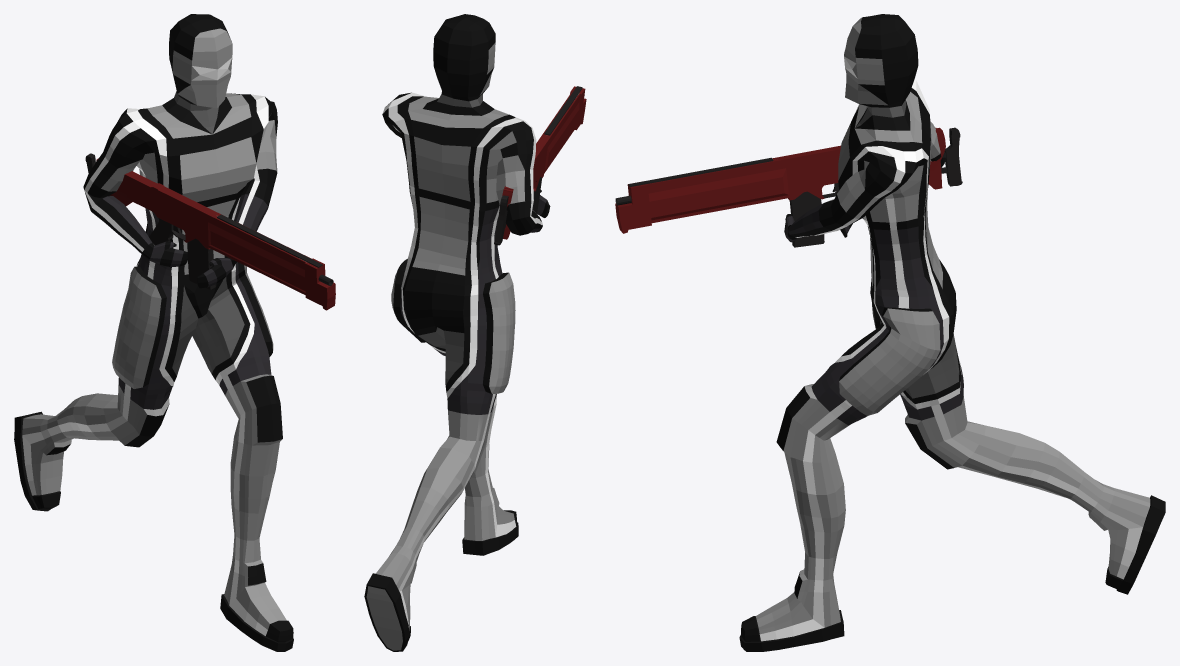
File: TKR8.obj
3 views of the same model, side by side, from view 1: azimuth 30°, elevation 25°; view 2: azimuth 150°, elevation 25°; view 3: azimuth 270°, elevation 25° (orthographic). The views are drawn at different scales.
Visible parts, largest first — view 1: metarig_object_metarig_mesh, Cube.001; view 2: metarig_object_metarig_mesh, Cube.001; view 3: metarig_object_metarig_mesh, Cube.001.
Boxes of the visible parts, x1,y1,x2,y2 form: metarig_object_metarig_mesh: (14, 14, 293, 651); Cube.001: (85, 153, 335, 310); metarig_object_metarig_mesh: (364, 14, 550, 651); Cube.001: (494, 86, 586, 245); metarig_object_metarig_mesh: (739, 14, 1165, 651); Cube.001: (615, 127, 962, 247).
Bounding box in the file's own units: 0.5046 × 1.67 × 1.34.
2 materials, 2 textured.
